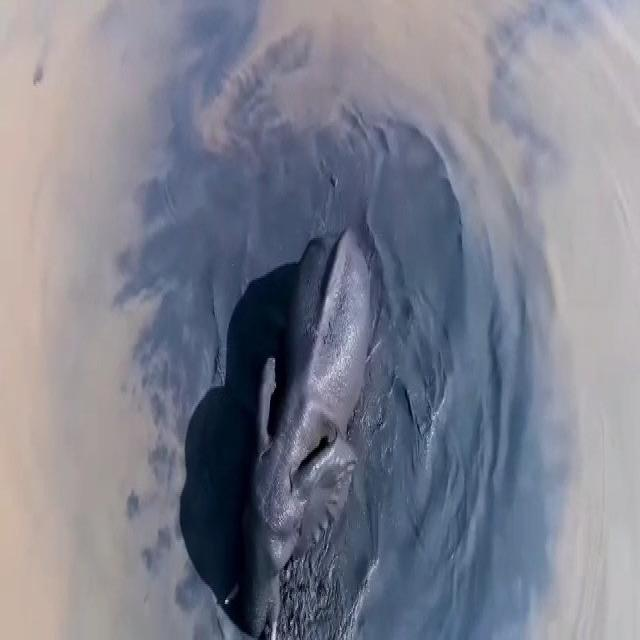Elephant: (238, 206, 380, 640)
